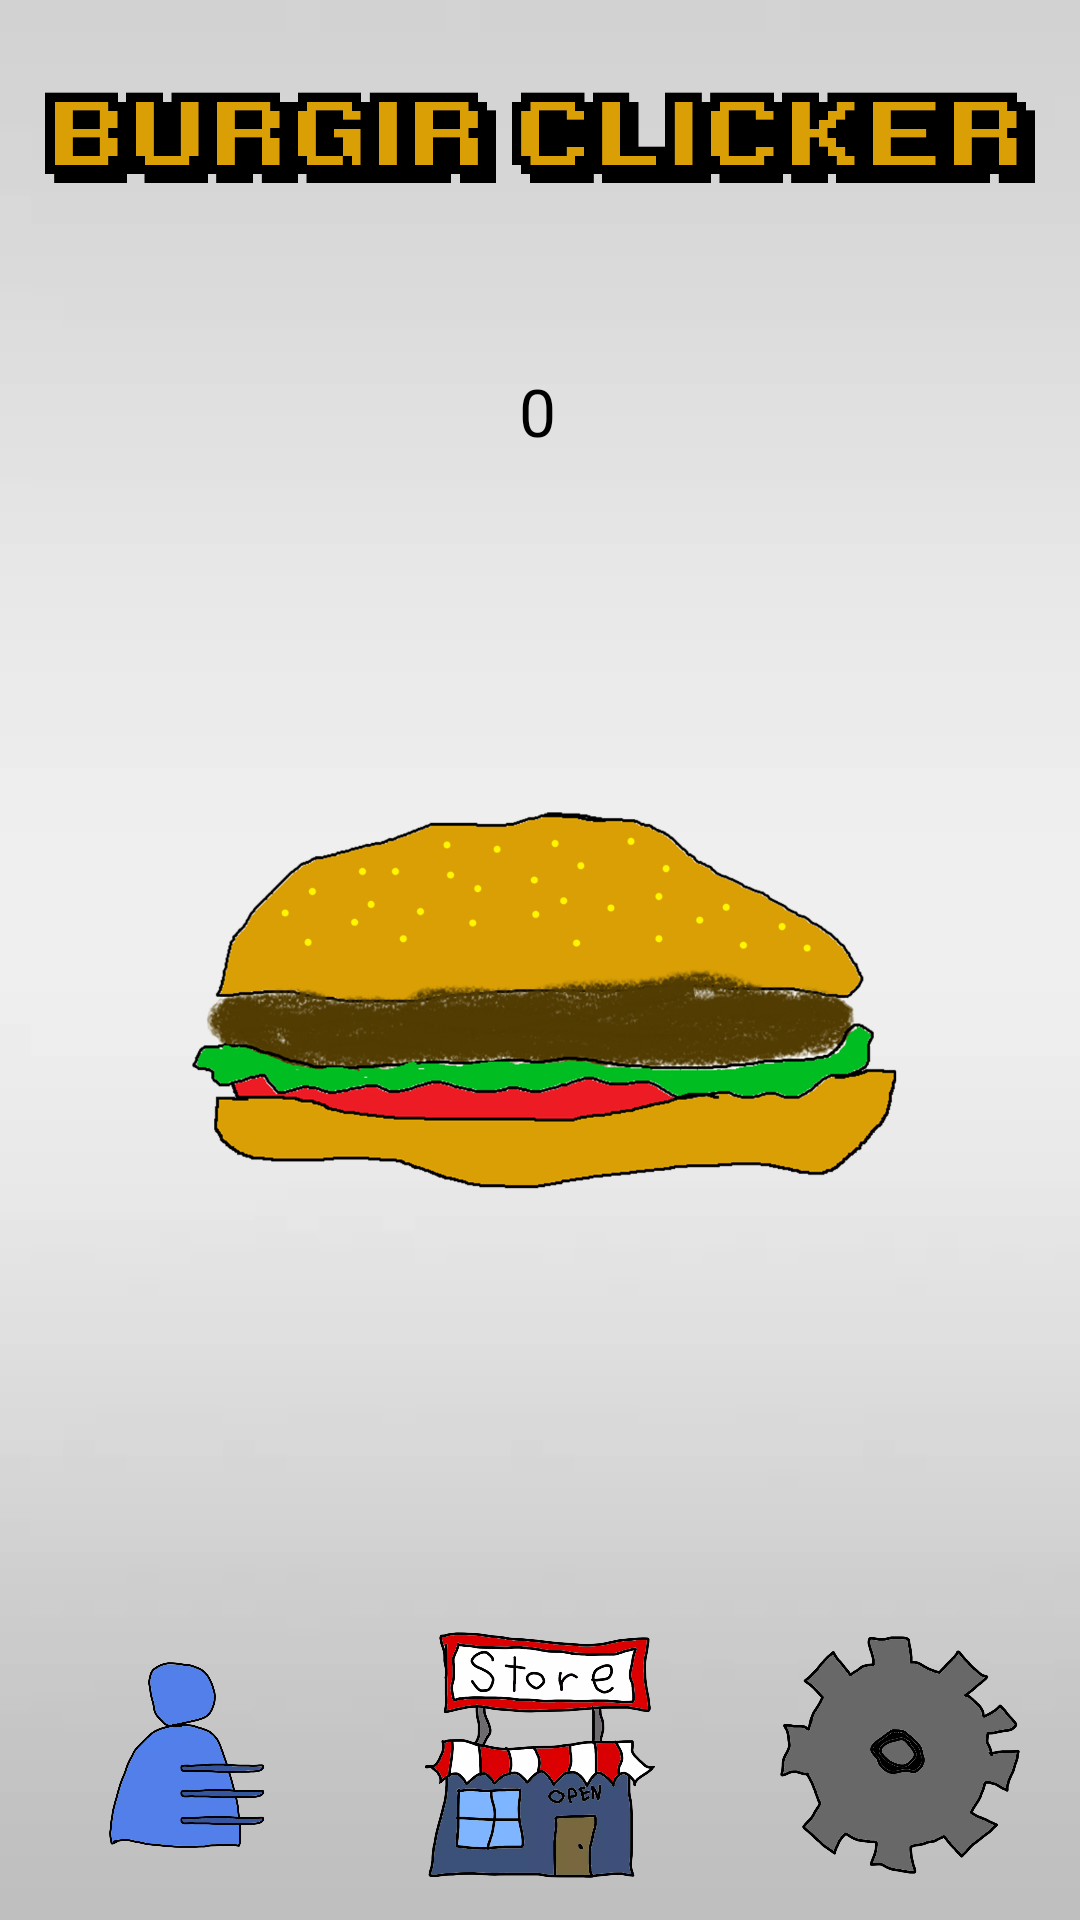

Where to tap for icons on this 1080w x 1920h app screen, as point (x, y):
career: point (186, 1755)
options: point (900, 1755)
